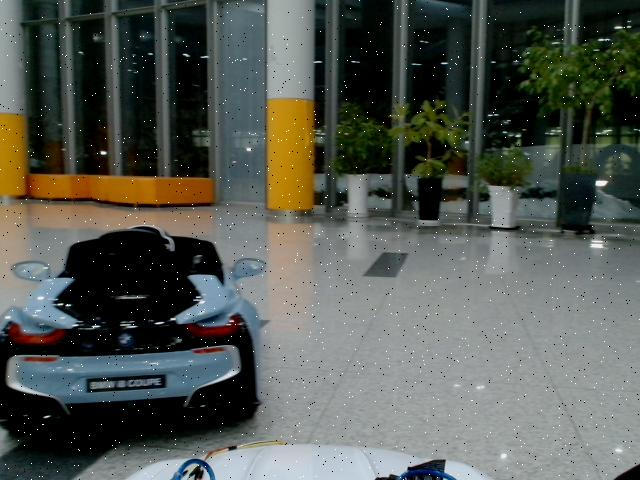car: (1, 225, 267, 434)
